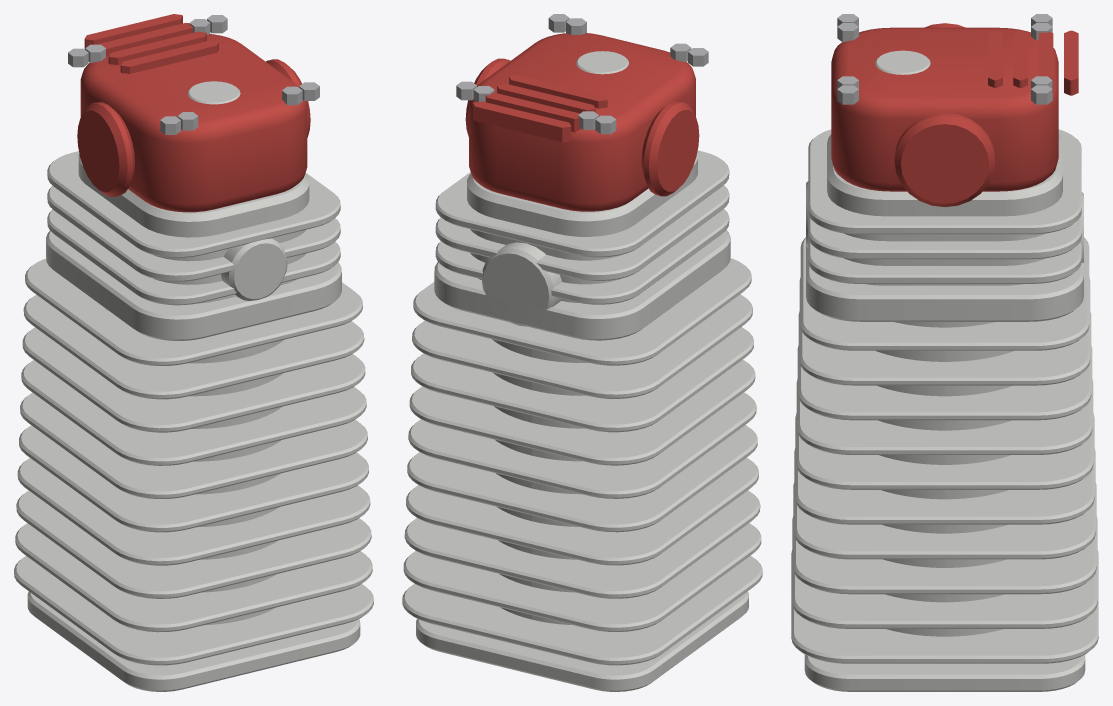
Rendered from hot_cam_1.glb.
3 renders of one model, left to right at view 1: azimuth 30°, elevation 25°; view 2: azimuth 150°, elevation 25°; view 3: azimuth 270°, elevation 25°, orthographic. The views are drawn at different scales.
Parts seen in each view (by area): view 1: lod0; view 2: lod0; view 3: lod0.
Boxes of the visible parts, x1=… form: lod0: x1=14, y1=14, x2=373, y2=691; lod0: x1=402, y1=14, x2=762, y2=691; lod0: x1=791, y1=14, x2=1098, y2=691.
Size of what is drawn, in the model's own units: 0.146 by 0.3043 by 0.146.
